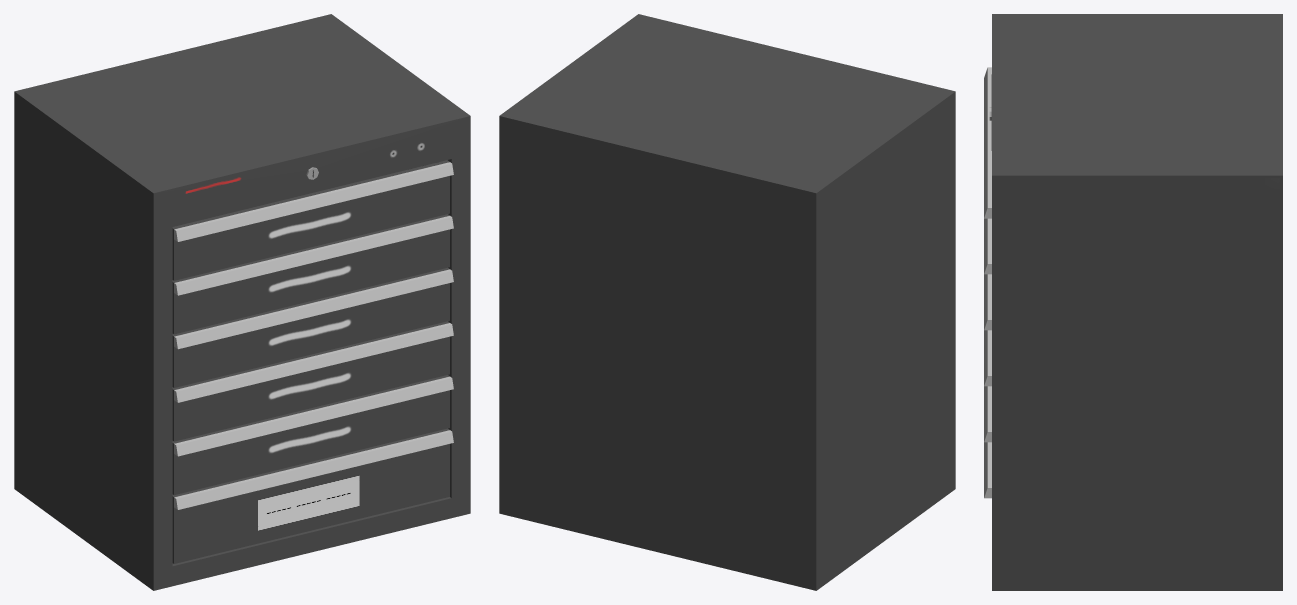
The model's file is medcart2.fbx.
The picture shows the model from 3 angles, left to right: view 1: azimuth 30°, elevation 25°; view 2: azimuth 150°, elevation 25°; view 3: azimuth 270°, elevation 25°; orthographic projection. The views are drawn at different scales.
Parts seen in each view (by area): view 1: Cart, Drawer.005, Drawer, Drawer.006, Drawer.002, Drawer.003, Drawer.001; view 2: Cart; view 3: Cart, Drawer, Drawer.005, Drawer.006, Drawer.001, Drawer.002, Drawer.003.
Part boxes in pixels (<box>): Cart: <box>14,14,470,590</box>; Drawer.005: <box>172,428,453,563</box>; Drawer: <box>172,160,453,280</box>; Drawer.006: <box>172,214,453,334</box>; Drawer.002: <box>172,321,453,441</box>; Drawer.003: <box>172,375,453,495</box>; Drawer.001: <box>172,267,453,387</box>; Cart: <box>499,14,955,590</box>; Cart: <box>989,14,1282,590</box>; Drawer: <box>984,67,991,218</box>; Drawer.005: <box>984,442,991,498</box>; Drawer.006: <box>984,218,991,274</box>; Drawer.001: <box>984,274,991,330</box>; Drawer.002: <box>984,330,991,386</box>; Drawer.003: <box>984,386,991,442</box>.
Size of the model in its own units: 96 by 115 by 74.99.
